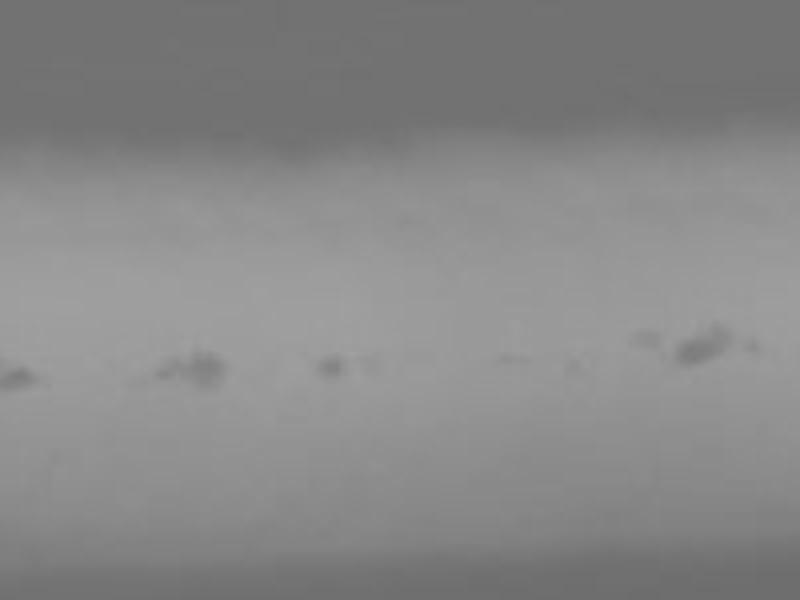defect: (680, 333, 732, 367), (188, 349, 227, 394), (314, 354, 347, 385), (1, 364, 36, 392), (627, 326, 665, 348), (158, 353, 180, 378), (744, 335, 765, 353)
